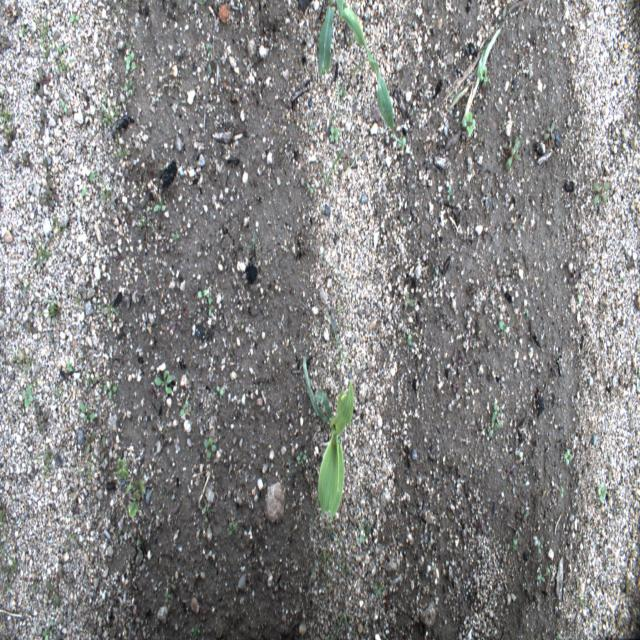crop: (317, 0, 394, 135), (301, 354, 355, 518)
weed: (466, 26, 503, 116), (120, 451, 146, 523), (151, 366, 177, 400), (503, 127, 523, 171), (332, 316, 349, 367), (591, 172, 611, 209), (44, 576, 64, 612), (34, 394, 52, 434), (36, 179, 59, 210), (486, 397, 501, 442), (105, 288, 122, 326), (53, 34, 67, 80), (14, 346, 35, 376), (196, 281, 213, 317), (36, 17, 53, 53), (4, 107, 17, 153), (458, 109, 475, 142), (10, 148, 32, 173), (202, 433, 220, 462), (104, 100, 124, 125), (124, 46, 139, 78), (95, 428, 108, 464), (357, 514, 373, 543), (39, 100, 50, 142), (33, 65, 48, 95), (541, 116, 555, 148), (80, 402, 98, 426), (514, 500, 530, 527), (339, 145, 354, 172), (213, 376, 226, 407), (340, 603, 353, 633), (400, 287, 414, 314), (151, 196, 168, 218), (496, 314, 514, 334), (510, 524, 521, 556), (40, 442, 52, 471), (292, 444, 307, 467), (177, 393, 190, 419), (59, 90, 70, 120), (19, 18, 29, 51), (101, 384, 120, 401), (48, 290, 58, 322), (574, 280, 585, 309), (562, 445, 574, 471), (442, 178, 454, 202), (371, 574, 385, 594), (598, 478, 608, 506), (36, 244, 48, 267), (22, 388, 34, 410), (170, 228, 184, 246), (79, 182, 91, 203), (64, 354, 76, 374), (336, 82, 350, 99), (68, 9, 79, 30), (203, 37, 212, 62), (225, 516, 238, 532), (534, 530, 543, 552), (304, 178, 313, 199), (122, 85, 136, 97), (330, 123, 339, 140), (406, 330, 413, 351), (536, 568, 544, 586), (43, 625, 53, 637)
